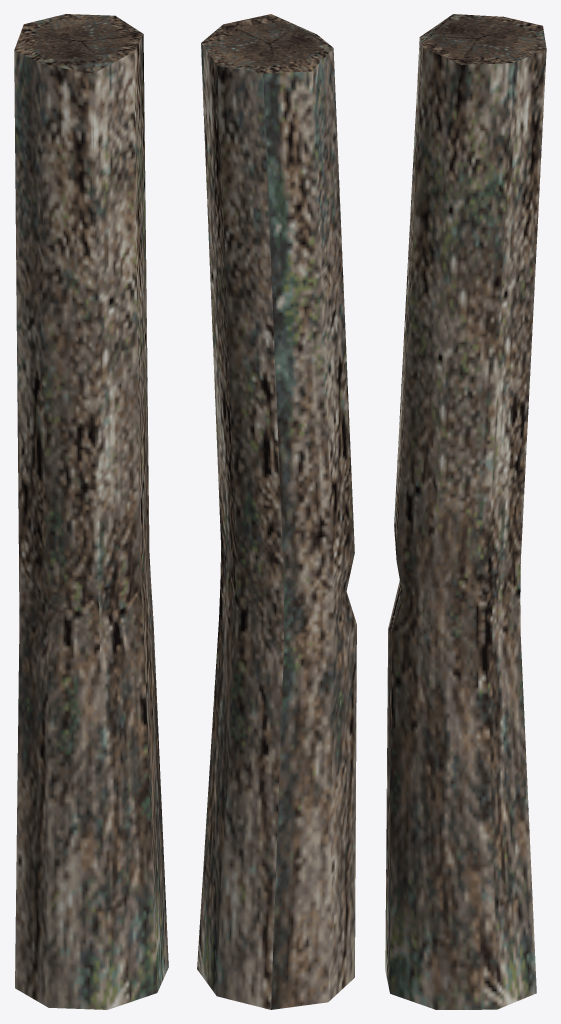
The model's file is fp_log_3.glb.
3 renders of one model, left to right at view 1: azimuth 30°, elevation 25°; view 2: azimuth 150°, elevation 25°; view 3: azimuth 270°, elevation 25°, orthographic.
Visible parts, largest first — view 1: _MeshInstance3D_29; view 2: _MeshInstance3D_29; view 3: _MeshInstance3D_29.
Part boxes in pixels (x1,y1,x2,y2): _MeshInstance3D_29: (14, 14, 168, 1009); _MeshInstance3D_29: (197, 14, 356, 1009); _MeshInstance3D_29: (385, 14, 546, 1009).
Size of the model in its own units: 0.1711 by 1.18 by 0.1822.
1 material, 1 textured.
